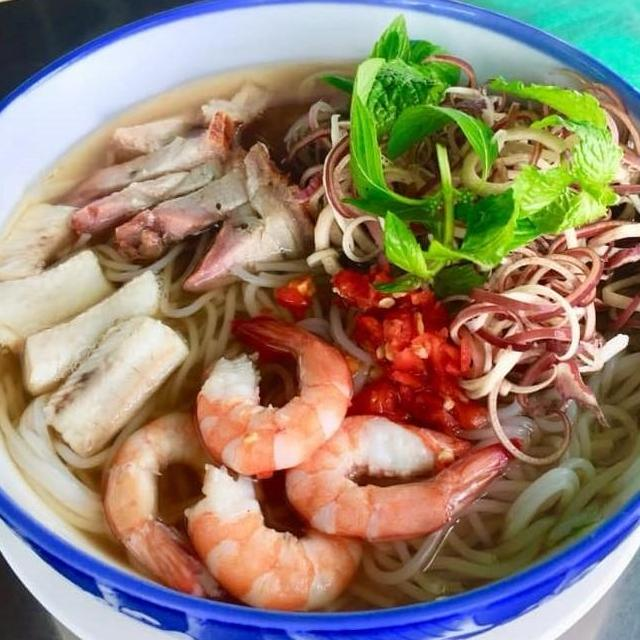bun: (344, 326, 640, 622), (86, 233, 380, 403), (0, 364, 160, 550)
ca: (36, 301, 194, 461), (17, 261, 170, 397), (0, 241, 129, 360), (0, 195, 84, 288)
thit heo quay: (108, 137, 286, 267), (61, 105, 244, 202), (177, 182, 320, 298), (67, 148, 229, 244)
tom: (94, 407, 282, 607), (275, 404, 529, 548), (179, 454, 374, 619), (189, 309, 361, 481)
